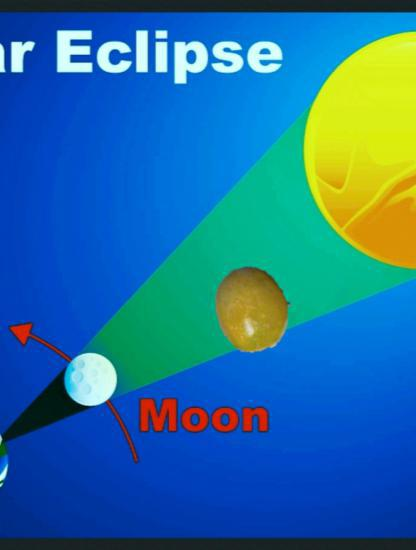Maracuja: (209, 266, 296, 353)
